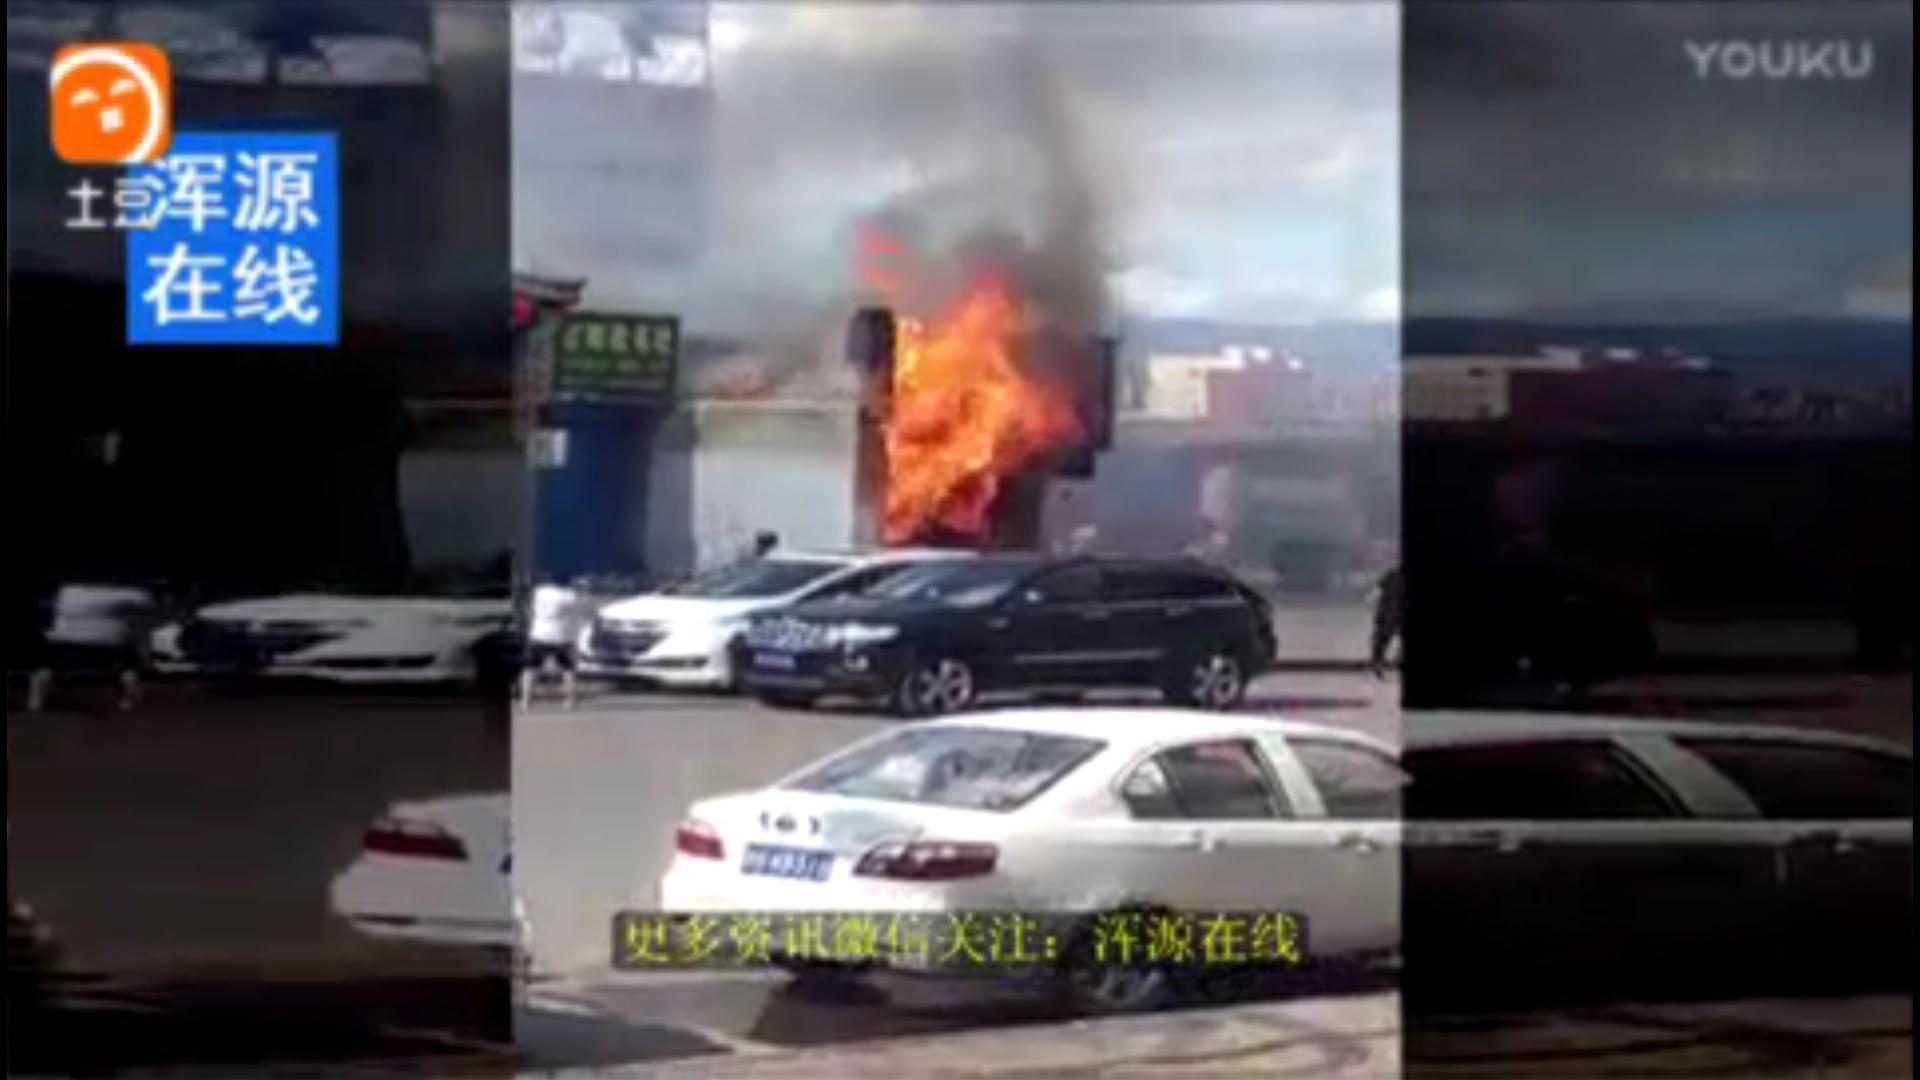fire: (855, 251, 1098, 543)
